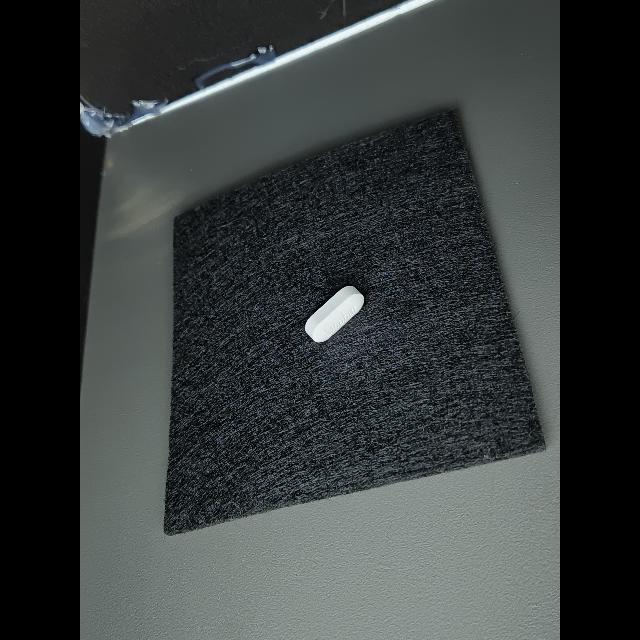Intact Pill: (305, 286, 364, 343)
